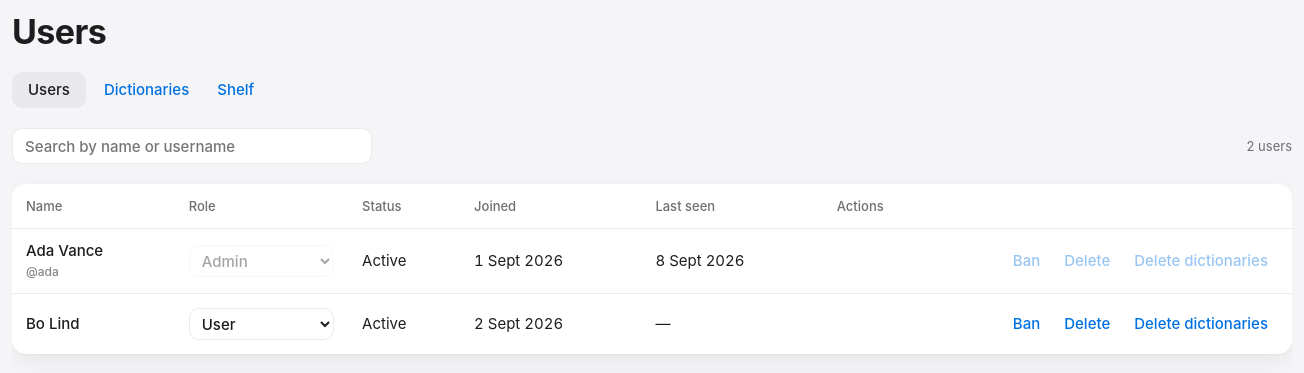
Scenario: AdminScreen › bans a user and reloads the list
Click the button with class "ban" in the row of "Bo Lind" at (1026, 324), box left=1003, top=306, right=1050, bottom=342
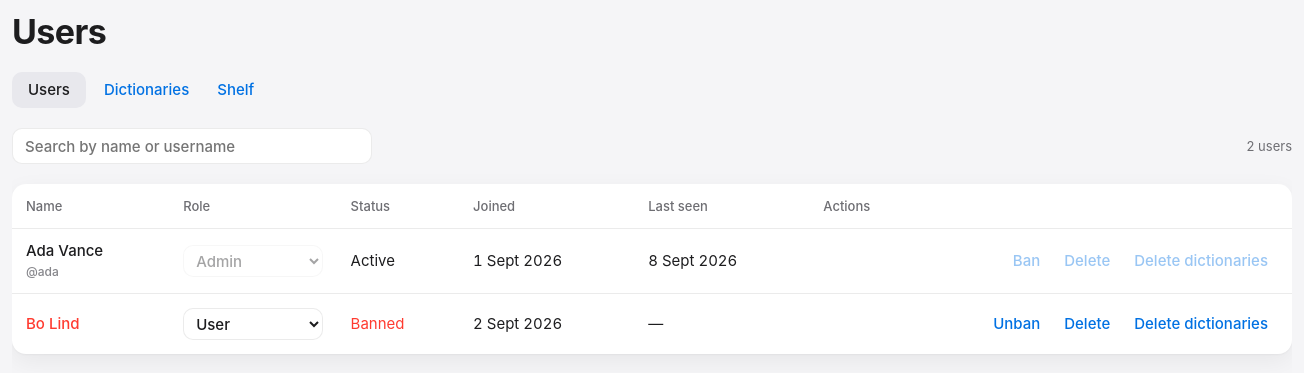
Expected: the cell with class "status" reads "Banned", left=351, top=314, right=404, bottom=333
